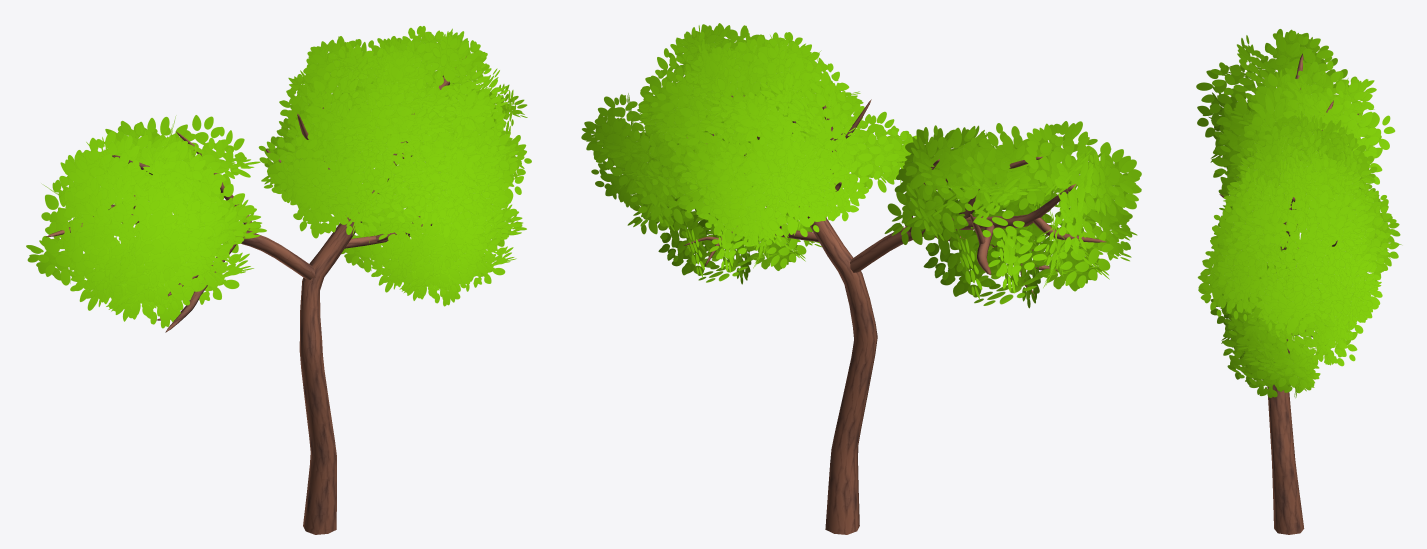
Rendered from Tree4.gltf.
3 views of the same model, side by side, from view 1: azimuth 30°, elevation 25°; view 2: azimuth 150°, elevation 25°; view 3: azimuth 270°, elevation 25° (orthographic). The views are drawn at different scales.
Visible parts, largest first — view 1: NormalTree_4; view 2: NormalTree_4; view 3: NormalTree_4.
Boxes of the visible parts, box(x1,y1,x2,y2) form: NormalTree_4: box(26, 26, 531, 534); NormalTree_4: box(581, 23, 1141, 534); NormalTree_4: box(1196, 29, 1401, 534).
Bounding box in the file's own units: 5.67 × 5.1 × 2.4.
2 materials, 2 textured.
